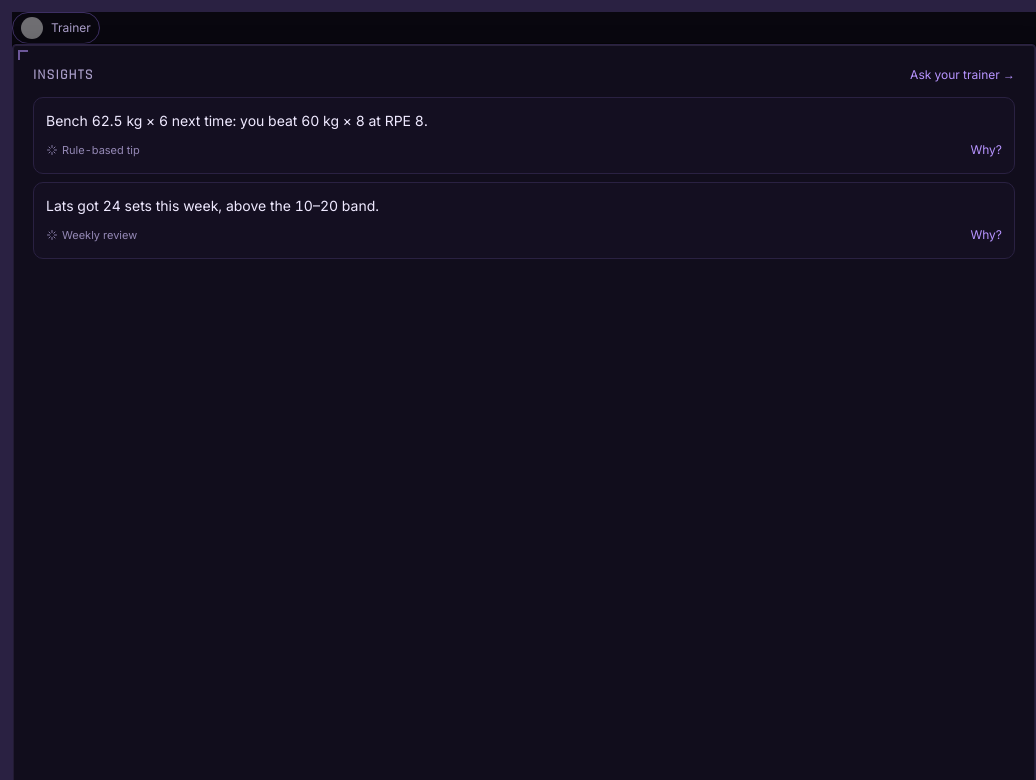
Test case: trainer voice › plain mode shows the same facts without the persona, and the toggle saves
Expected: the heading "Insights" is shown, 33,65 -> 94,85
Expected: the text "Bench 62.5 kg × 6 next time: you beat 60 kg × 8 at RPE 8." is shown, 46,112 -> 428,129
Click the button "Trainer".
click(56, 28)  # box 12,12 -> 100,44
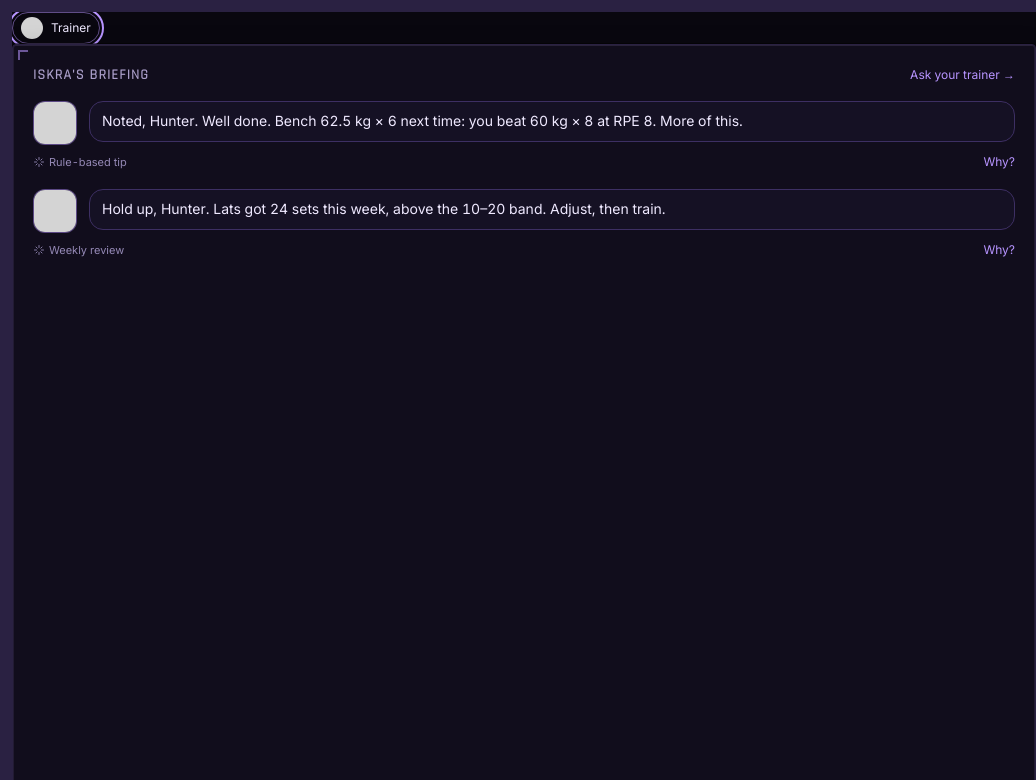
Result: the heading "Iskra's briefing" is shown at 33,65 -> 149,85
